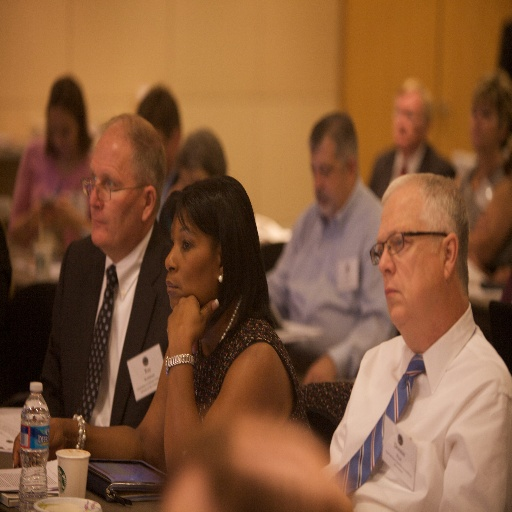hand: (10, 415, 66, 471), (164, 299, 202, 366), (301, 356, 338, 383)
